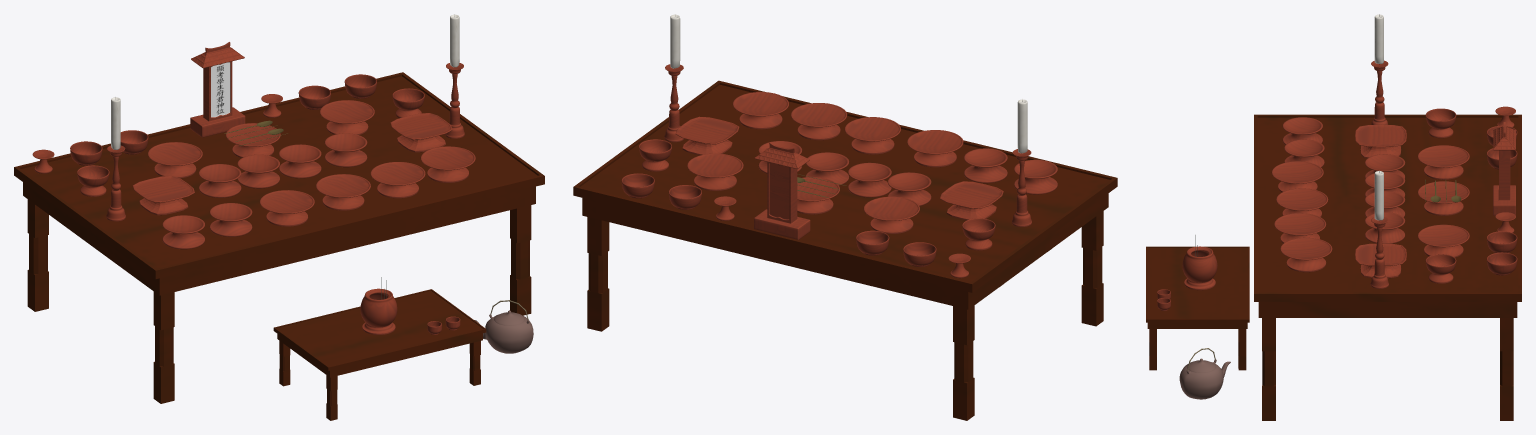
Rendered from teble.fbx.
The picture shows the model from 3 angles, left to right: view 1: azimuth 30°, elevation 25°; view 2: azimuth 150°, elevation 25°; view 3: azimuth 270°, elevation 25°; orthographic projection. The views are drawn at different scales.
Parts seen in each view (by area): view 1: Cylinder.143; view 2: Cylinder.143; view 3: Cylinder.143.
Part boxes in pixels (x1,y1,x2,y2): Cylinder.143: (14,14,544,420); Cylinder.143: (573,14,1117,420); Cylinder.143: (1146,14,1521,420).
Bounding box in the file's own units: 123 × 78.02 × 109.
